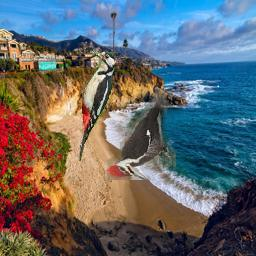Woodpecker: (106, 88, 177, 180), (79, 50, 115, 162)
